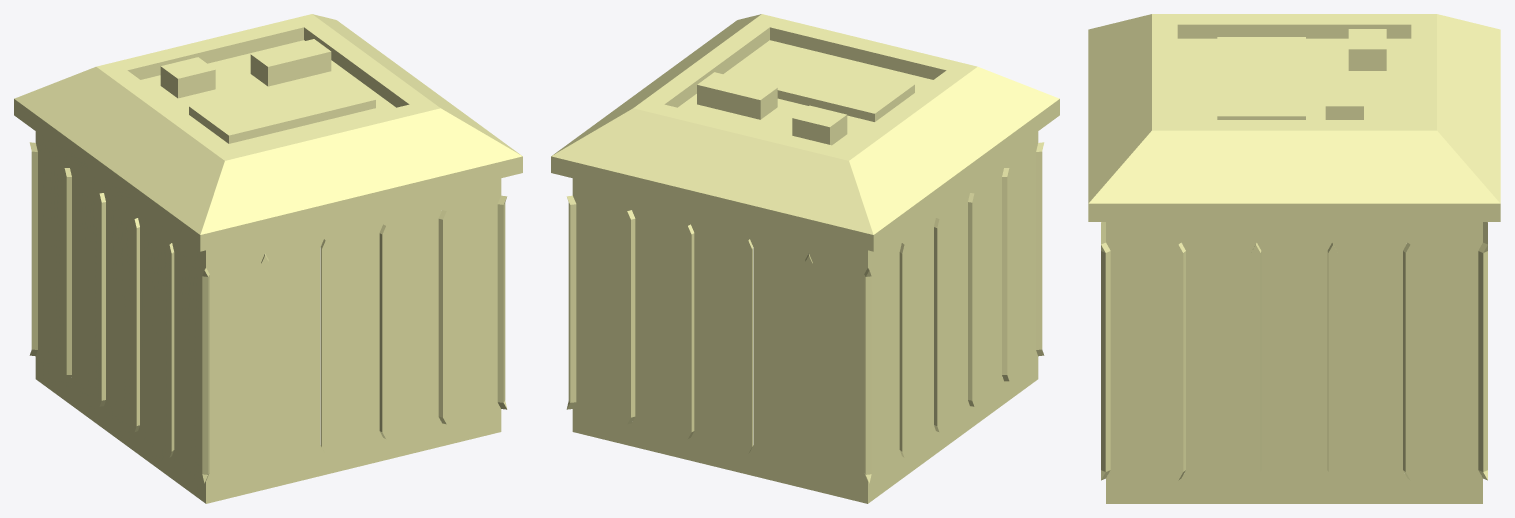
The model's file is MangaKa Props - F_S_ScifiBuilding_29.glb.
The picture shows the model from 3 angles, left to right: view 1: azimuth 30°, elevation 25°; view 2: azimuth 150°, elevation 25°; view 3: azimuth 270°, elevation 25°; orthographic projection. The views are drawn at different scales.
Visible parts, largest first — view 1: F_S_ScifiBuilding_29_blueScreen, F_S_ScifiBuilding_29003_blueScreen, F_S_ScifiBuilding_29004_blueScreen, F_S_ScifiBuilding_29002_blueScreen, F_S_ScifiBuilding_29001_blueScreen; view 2: F_S_ScifiBuilding_29_blueScreen, F_S_ScifiBuilding_29003_blueScreen, F_S_ScifiBuilding_29004_blueScreen, F_S_ScifiBuilding_29002_blueScreen, F_S_ScifiBuilding_29001_blueScreen; view 3: F_S_ScifiBuilding_29_blueScreen, F_S_ScifiBuilding_29003_blueScreen, F_S_ScifiBuilding_29004_blueScreen, F_S_ScifiBuilding_29002_blueScreen, F_S_ScifiBuilding_29001_blueScreen.
Part boxes in pixels (box(x1,y1,x2,y2)): F_S_ScifiBuilding_29_blueScreen: box(14, 14, 522, 503); F_S_ScifiBuilding_29003_blueScreen: box(40, 161, 492, 464); F_S_ScifiBuilding_29004_blueScreen: box(29, 142, 507, 483); F_S_ScifiBuilding_29002_blueScreen: box(14, 70, 522, 251); F_S_ScifiBuilding_29001_blueScreen: box(160, 39, 331, 98); F_S_ScifiBuilding_29_blueScreen: box(551, 14, 1059, 503); F_S_ScifiBuilding_29003_blueScreen: box(581, 161, 1033, 464); F_S_ScifiBuilding_29004_blueScreen: box(566, 142, 1044, 483); F_S_ScifiBuilding_29002_blueScreen: box(551, 48, 1059, 251); F_S_ScifiBuilding_29001_blueScreen: box(697, 72, 847, 145); F_S_ScifiBuilding_29_blueScreen: box(1088, 14, 1500, 503); F_S_ScifiBuilding_29003_blueScreen: box(1116, 258, 1472, 462); F_S_ScifiBuilding_29004_blueScreen: box(1101, 222, 1487, 480); F_S_ScifiBuilding_29002_blueScreen: box(1088, 37, 1500, 221); F_S_ScifiBuilding_29001_blueScreen: box(1325, 29, 1386, 119).
Bounding box in the file's own units: 6.21 × 5.98 × 6.21.
